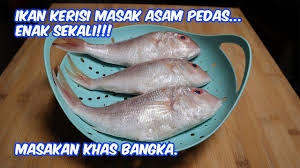Ikan Kerisi: (61, 84, 223, 133), (68, 55, 212, 97), (73, 29, 212, 62)
